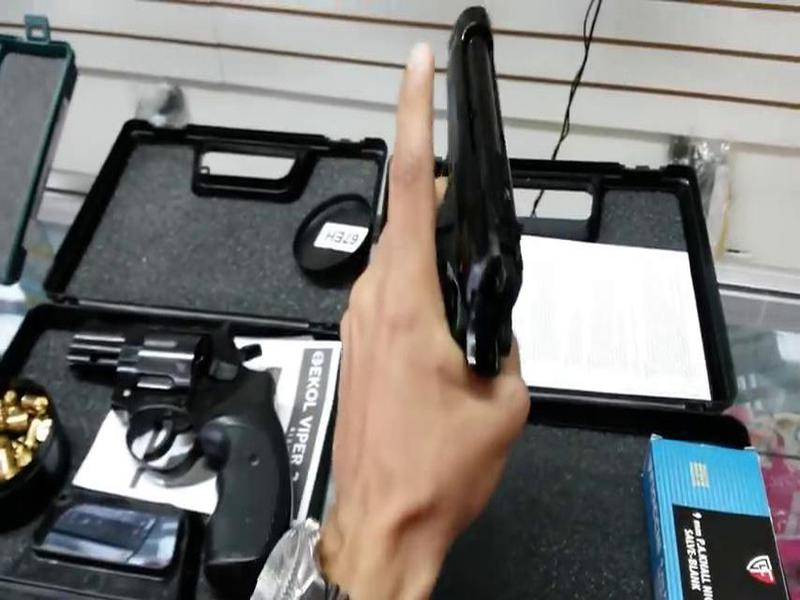Pistola: (407, 20, 535, 394)
